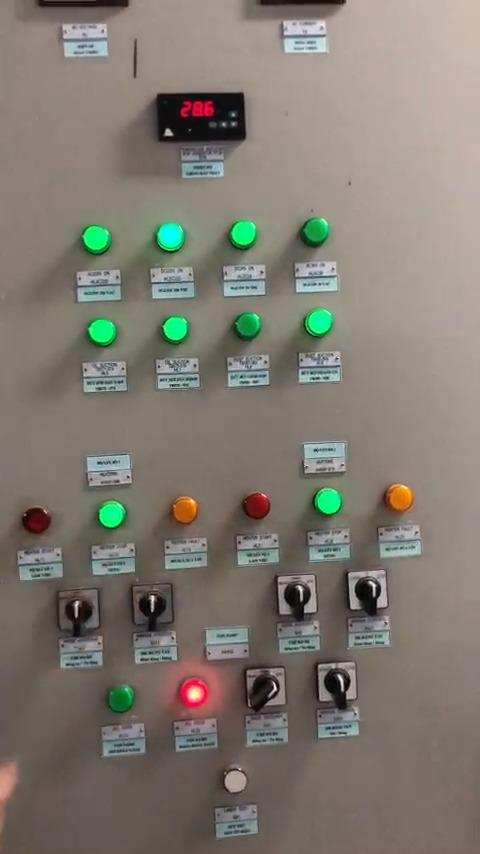led: (224, 216, 259, 250), (104, 684, 139, 718), (19, 503, 52, 539), (177, 676, 209, 711), (238, 491, 271, 524), (219, 765, 250, 799), (82, 224, 113, 255), (312, 488, 344, 518), (299, 216, 330, 246), (385, 484, 415, 515), (98, 500, 128, 530), (159, 316, 189, 345), (172, 494, 201, 524), (305, 309, 334, 338), (232, 313, 261, 341), (88, 318, 117, 346), (158, 223, 186, 251)
twist: (60, 588, 103, 634), (345, 568, 389, 612), (134, 583, 175, 629), (243, 666, 285, 710), (274, 574, 316, 616), (315, 660, 355, 703)
